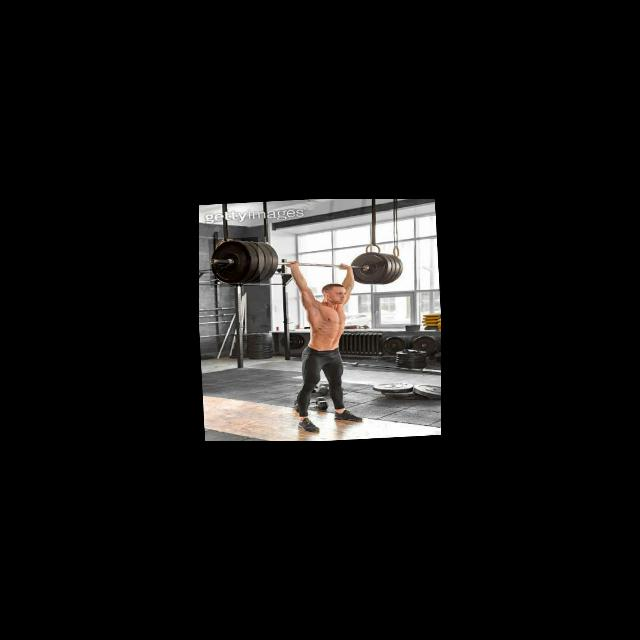barbell: (208, 237, 260, 288)
